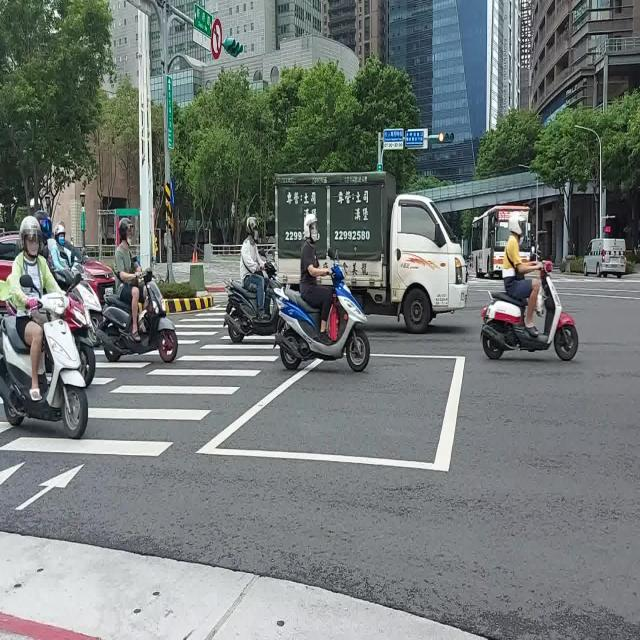bus: (471, 204, 531, 278)
car: (582, 238, 625, 278)
crosswalk: (0, 342, 279, 459), (91, 347, 153, 388), (174, 303, 227, 345)
motocycle: (0, 289, 88, 438), (276, 260, 370, 371), (481, 262, 578, 360), (100, 269, 178, 362), (54, 271, 99, 397), (225, 262, 280, 344)
trunk: (275, 171, 468, 331)
